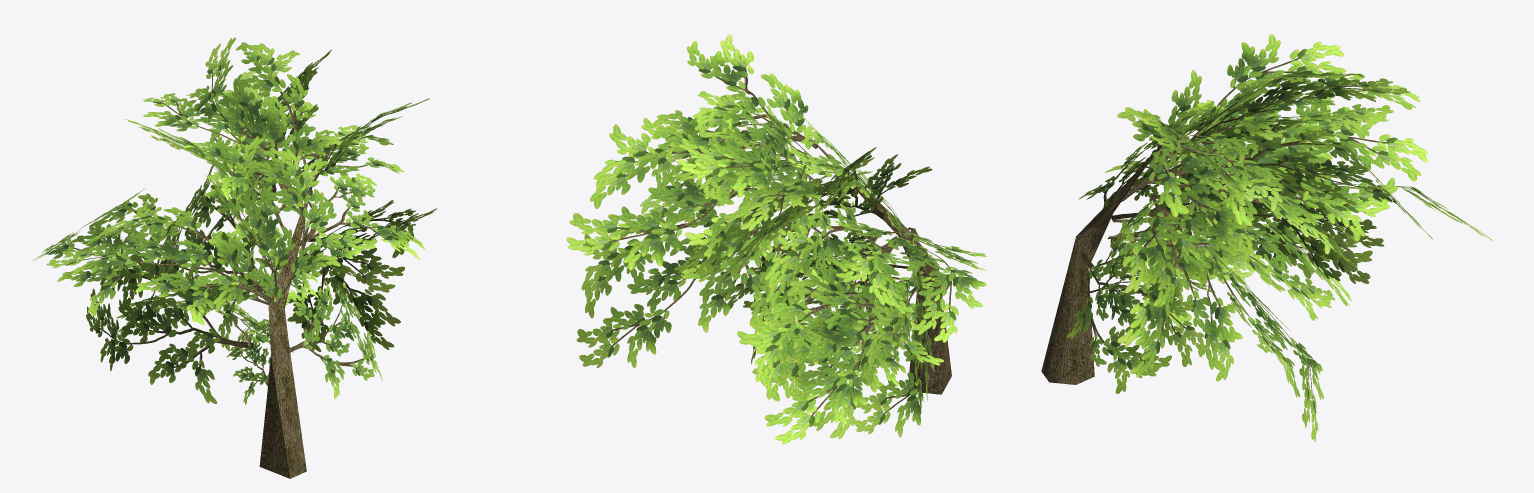
The model's file is watertree_leaves1_lod2.fbx.
The picture shows the model from 3 angles, left to right: view 1: azimuth 30°, elevation 25°; view 2: azimuth 150°, elevation 25°; view 3: azimuth 270°, elevation 25°; orthographic projection. The views are drawn at different scales.
Parts seen in each view (by area): view 1: Mesh Object; view 2: Mesh Object; view 3: Mesh Object.
Part boxes in pixels (x1,y1,x2,y2): Mesh Object: (32, 37, 437, 478); Mesh Object: (566, 34, 986, 444); Mesh Object: (1041, 34, 1493, 442).
Bounding box in the file's own units: 4.53 × 3.07 × 3.83.
